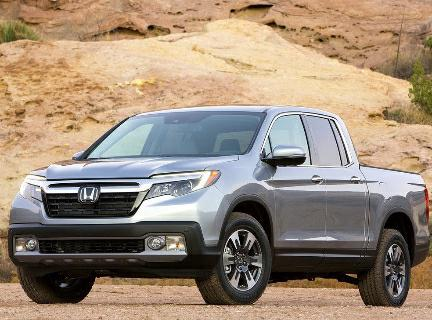本田-Ridgeline: (6, 106, 428, 310)
